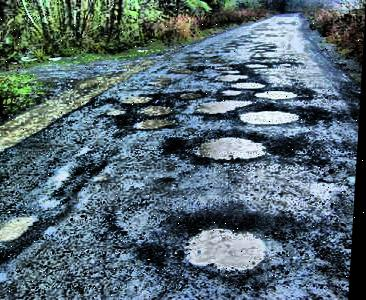pothole: (178, 217, 275, 274), (194, 134, 271, 161), (0, 211, 40, 241), (237, 109, 304, 124), (201, 99, 247, 114), (132, 116, 178, 130), (253, 88, 299, 100), (229, 80, 268, 90), (141, 104, 173, 116), (120, 93, 154, 103), (214, 73, 250, 81), (178, 90, 206, 99), (106, 106, 129, 115), (245, 61, 269, 69)
